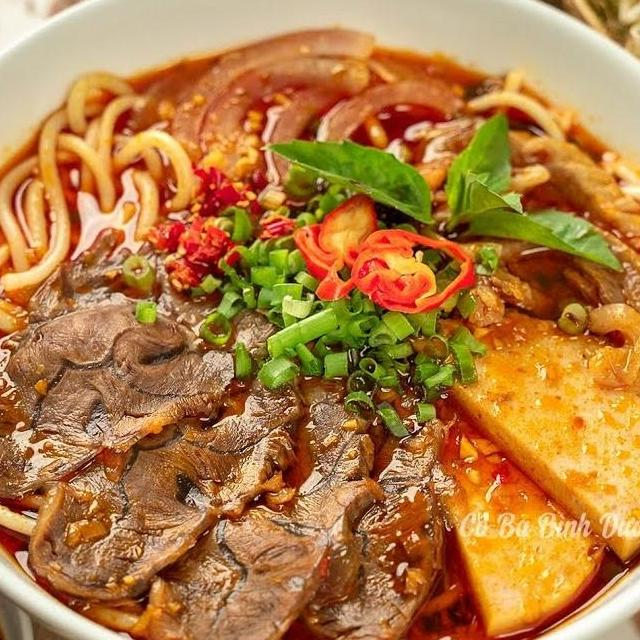mi: (0, 62, 202, 339)
mi nuoc sup bun bo: (0, 13, 640, 640)
thit bo: (18, 360, 314, 610), (155, 359, 384, 640), (0, 294, 248, 509), (287, 371, 457, 640), (24, 225, 300, 362)
